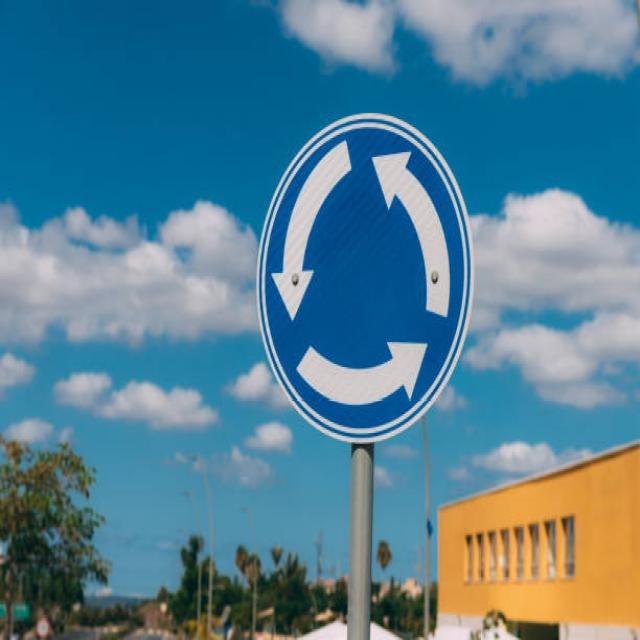round_about: (254, 106, 473, 445)
